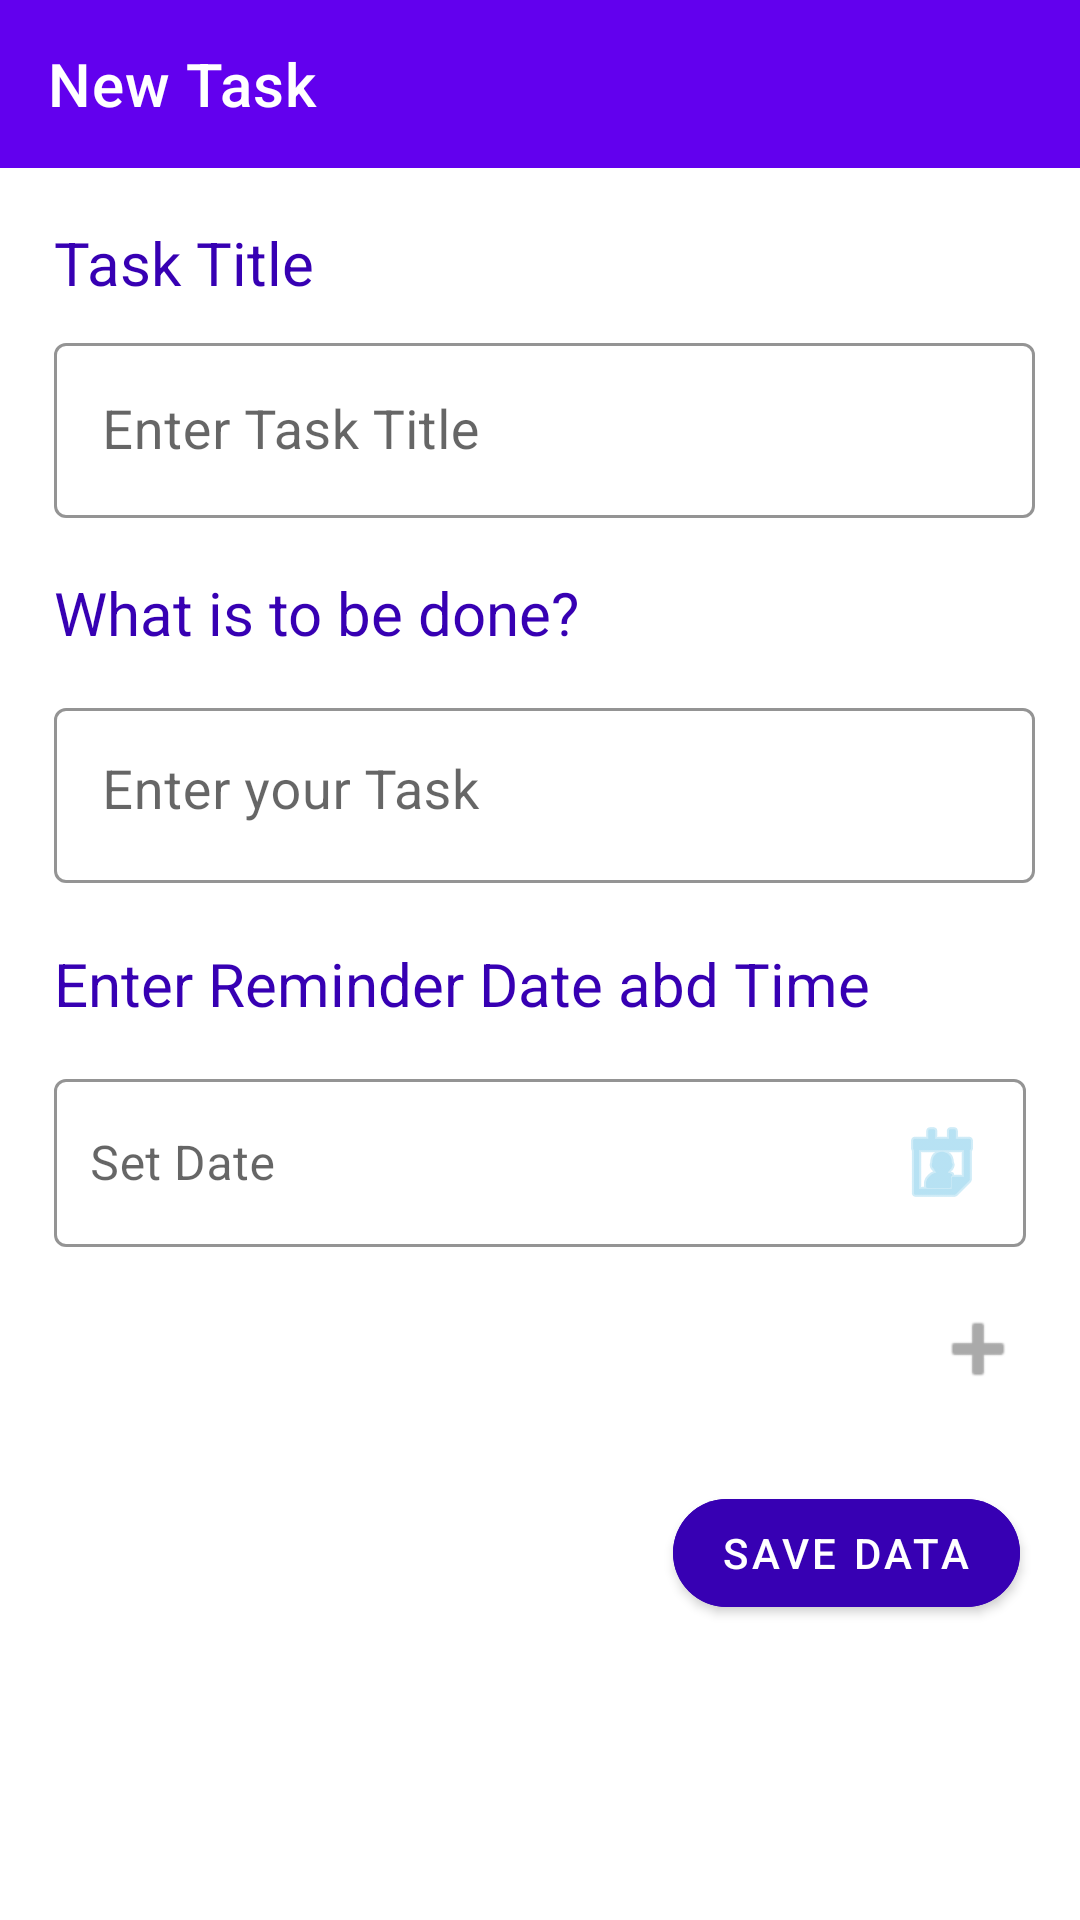

Where to tap for icons on this 1080x1920 app screen, as (x,y):
add: (978,1349)
